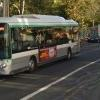buses: (0, 14, 82, 76)
